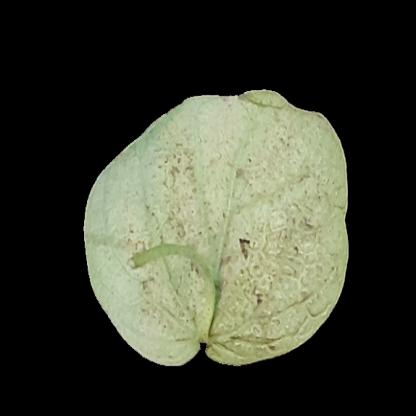curl_stage1: (215, 163, 328, 291), (119, 144, 212, 242)
